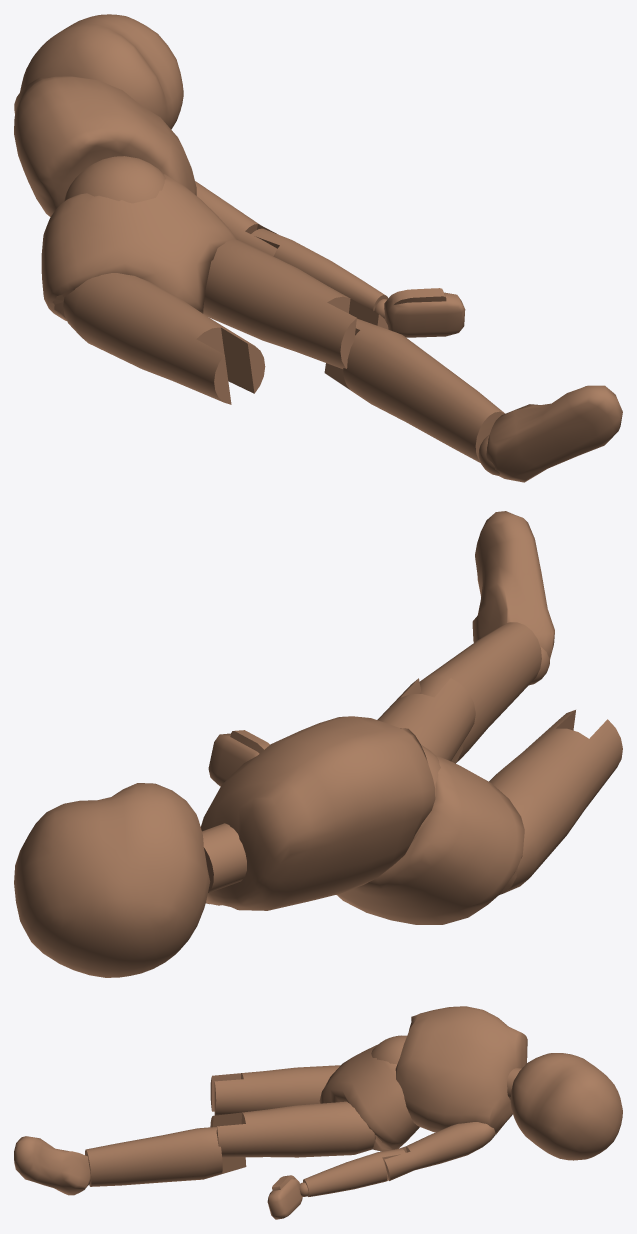
Rendered from wooden model 2.fbx.
The picture shows the model from 3 angles, top to bottom: view 1: azimuth 30°, elevation 25°; view 2: azimuth 150°, elevation 25°; view 3: azimuth 270°, elevation 25°; orthographic projection. The views are drawn at different scales.
Visible parts, largest first — view 1: polySurface114; view 2: polySurface114; view 3: polySurface114.
Part boxes in pixels (bbox=[...]): polySurface114: bbox=[14, 14, 622, 482]; polySurface114: bbox=[14, 511, 622, 977]; polySurface114: bbox=[14, 1006, 622, 1219].
Size of the model in its own units: 0.3754 by 0.2211 by 0.8979.
